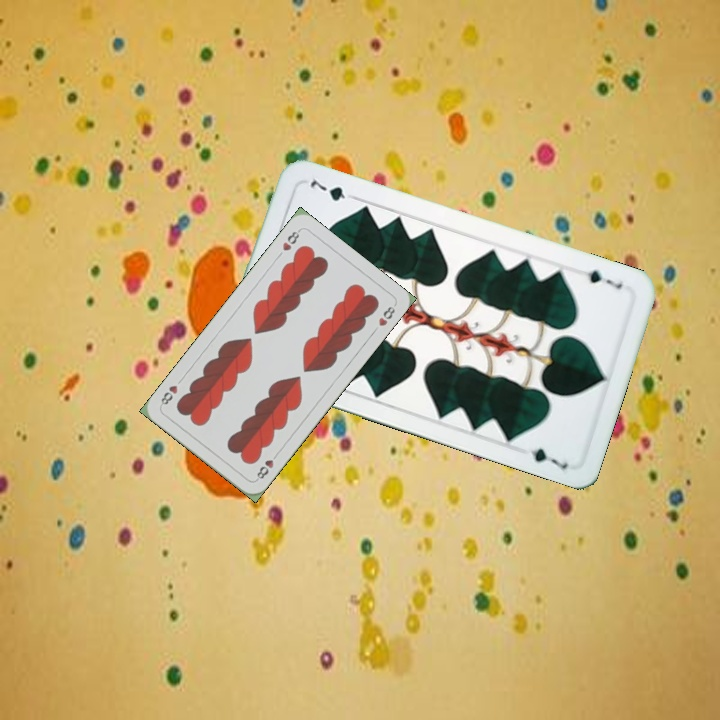G7: (576, 265, 625, 292)
H8: (252, 448, 281, 483), (278, 225, 303, 253)
